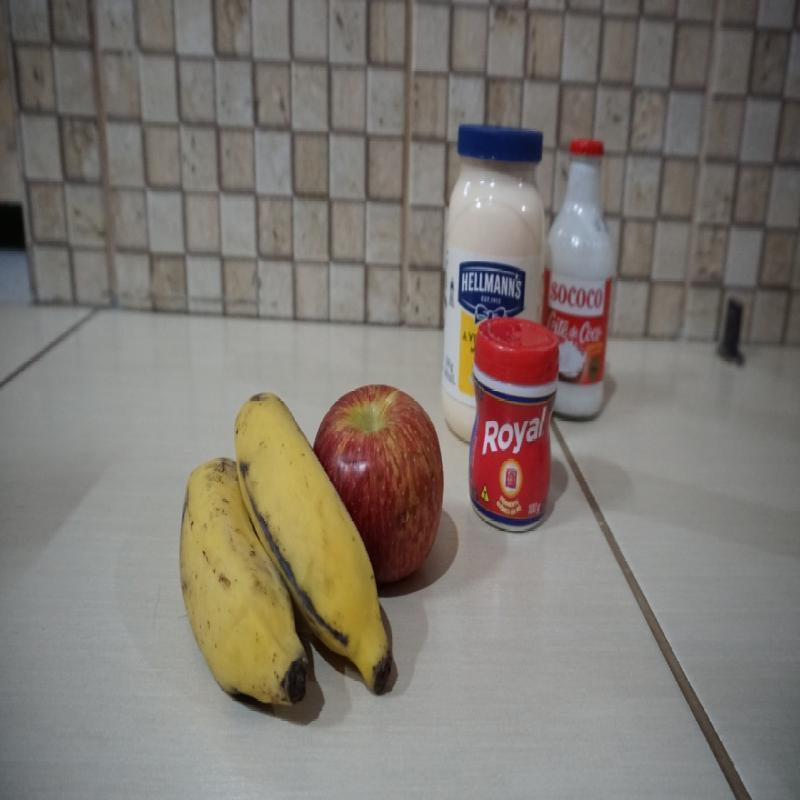Apple: (322, 370, 444, 590)
Banana: (176, 391, 312, 744)
Coconut Milk: (560, 135, 622, 424)
Mayonnaise: (448, 117, 546, 312)
Yeast: (469, 317, 556, 532)
